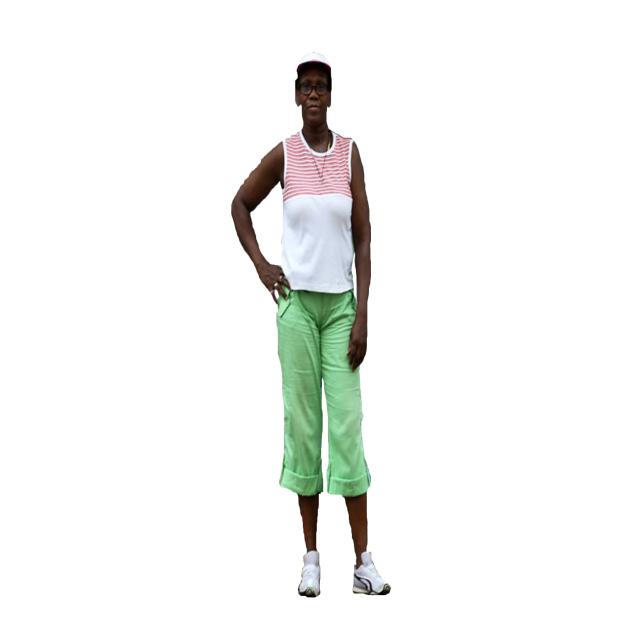jovem: (245, 38, 396, 593)
